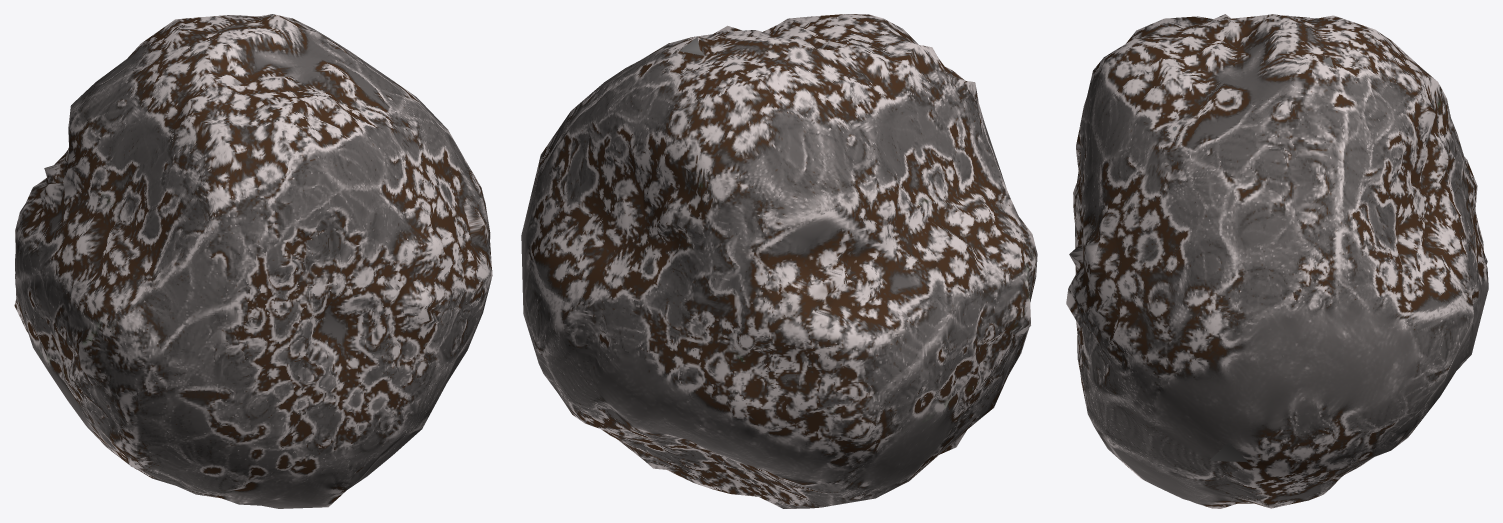
Rendered from MetalScrap_.fbx.
3 renders of one model, left to right at view 1: azimuth 30°, elevation 25°; view 2: azimuth 150°, elevation 25°; view 3: azimuth 270°, elevation 25°, orthographic. The views are drawn at different scales.
Parts seen in each view (by area): view 1: Volume4; view 2: Volume4; view 3: Volume4.
Boxes of the visible parts, box(x1,y1,x2,y2) form: Volume4: box(14, 14, 492, 508); Volume4: box(521, 14, 1037, 508); Volume4: box(1066, 14, 1488, 508).
Size of the model in its own units: 80.01 by 82.04 by 68.17.
